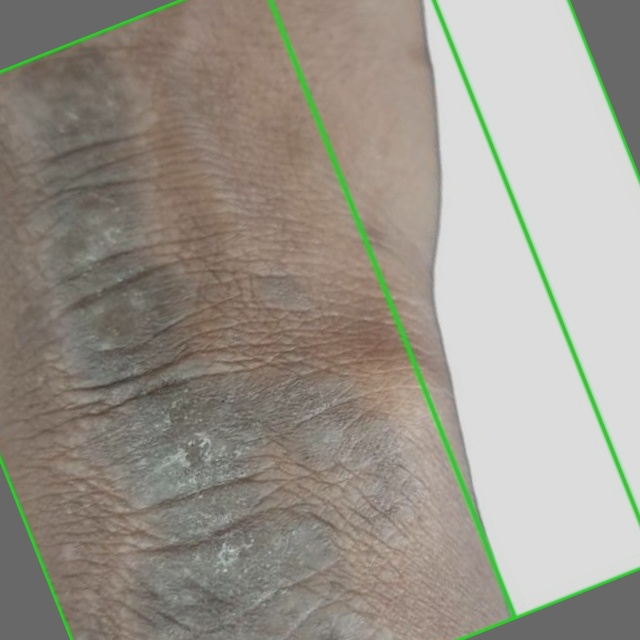Eczema: (0, 0, 639, 639), (270, 0, 639, 618)
